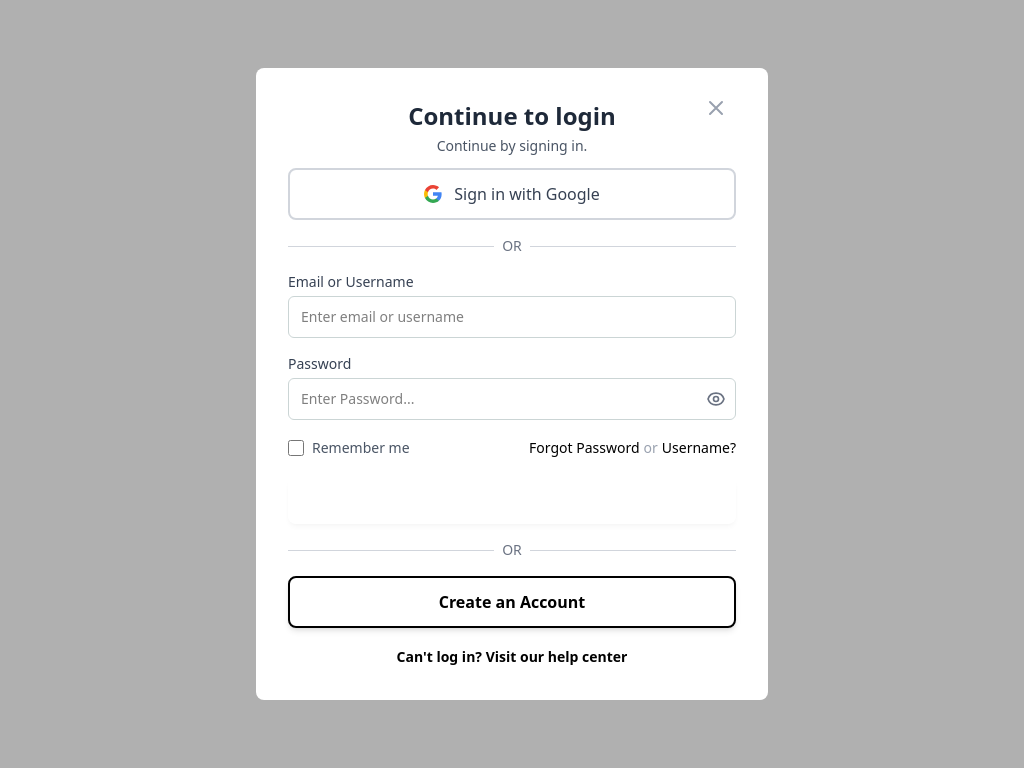
EmbeddedLoginForm Component › should handle forgot password link
Click the link "Forgot Password": (584, 448) x1=529 y1=438 x2=640 y2=458
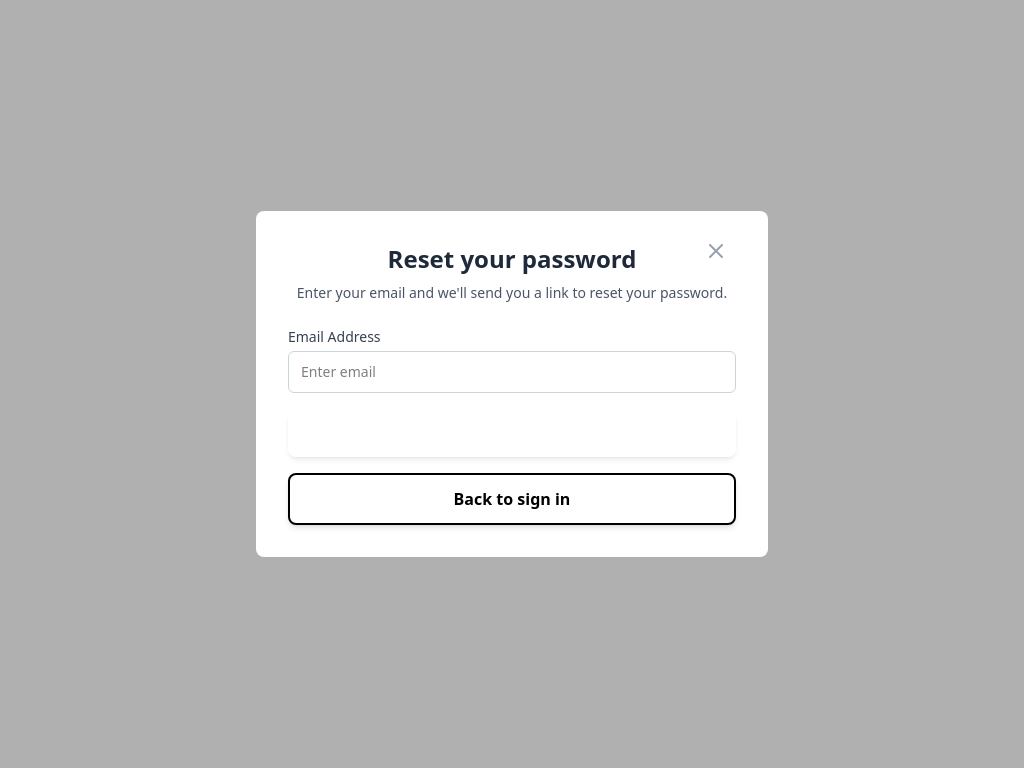
Expected: the field with placeholder "Enter email" is shown, x1=288 y1=351 x2=736 y2=393
